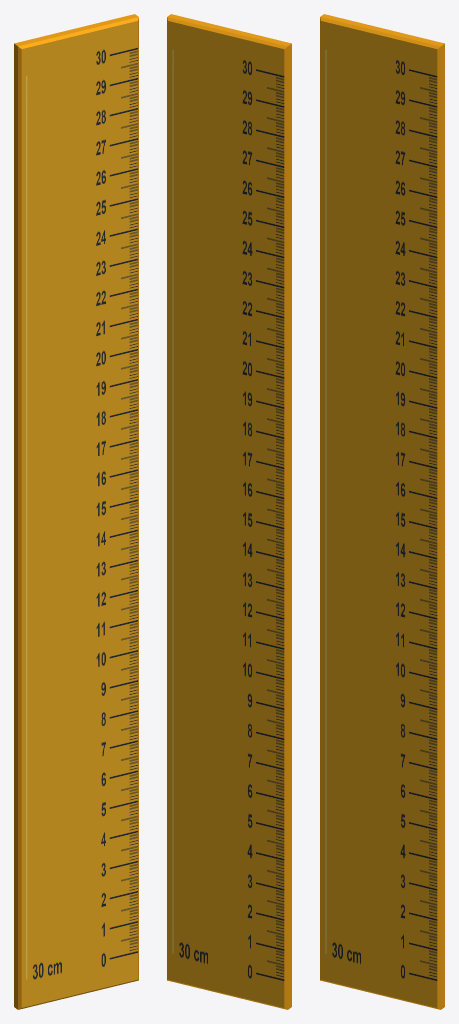
File: Ruler_Normal_30cm.obj
3 views of the same model, side by side, from view 1: azimuth 30°, elevation 25°; view 2: azimuth 150°, elevation 25°; view 3: azimuth 330°, elevation 25° (orthographic).
Parts seen in each view (by area): view 1: RulerPrint, YellowPlastic; view 2: RulerPrint, YellowPlastic; view 3: RulerPrint, YellowPlastic.
Part boxes in pixels (box(x1,y1,x2,y2)): RulerPrint: box(21, 21, 137, 1007); YellowPlastic: box(14, 14, 138, 1009); RulerPrint: box(168, 21, 284, 1007); YellowPlastic: box(167, 14, 291, 1009); RulerPrint: box(321, 21, 437, 1007); YellowPlastic: box(320, 14, 444, 1009).
Size of the model in its own units: 0.042 by 0.32 by 0.004.
Materials: 2 (1 with a texture image).
